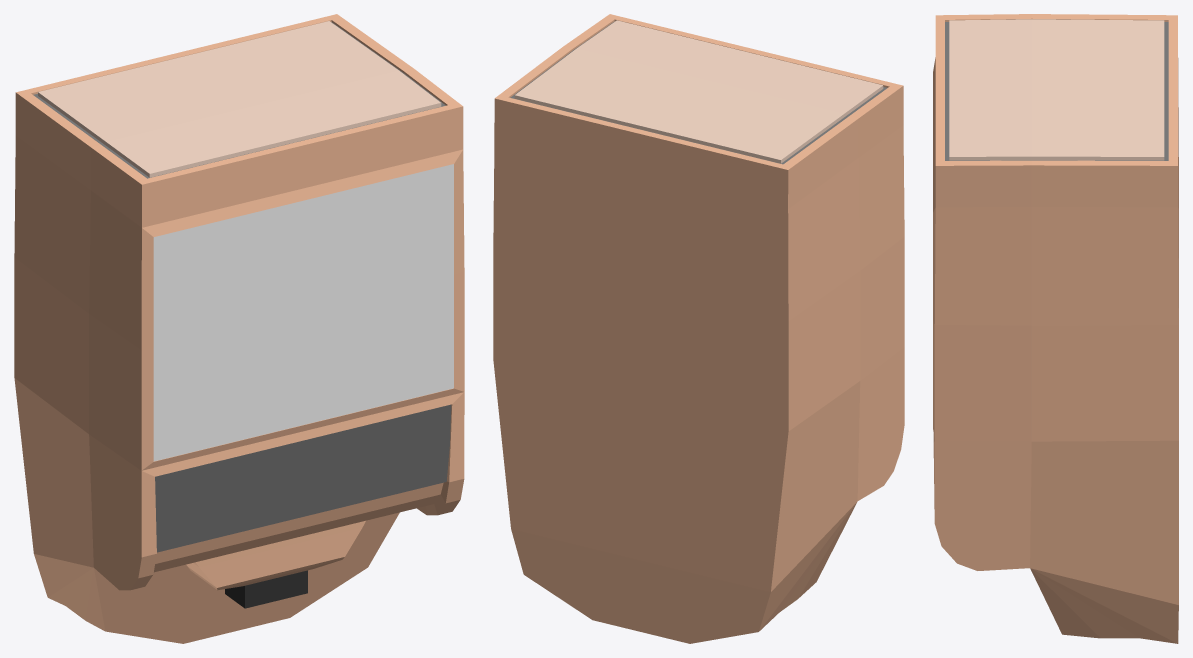
The model's file is Soap Dispensor #2.fbx.
3 views of the same model, side by side, from view 1: azimuth 30°, elevation 25°; view 2: azimuth 150°, elevation 25°; view 3: azimuth 270°, elevation 25° (orthographic). The views are drawn at different scales.
Visible parts, largest first — view 1: Soap Dispensor #2; view 2: Soap Dispensor #2; view 3: Soap Dispensor #2.
Part boxes in pixels (box(x1,y1,x2,y2)): Soap Dispensor #2: box(14, 14, 464, 643); Soap Dispensor #2: box(493, 14, 904, 643); Soap Dispensor #2: box(933, 14, 1178, 643).
Size of the model in its own units: 26.21 by 41.94 by 17.77.
2 materials, 1 textured.
